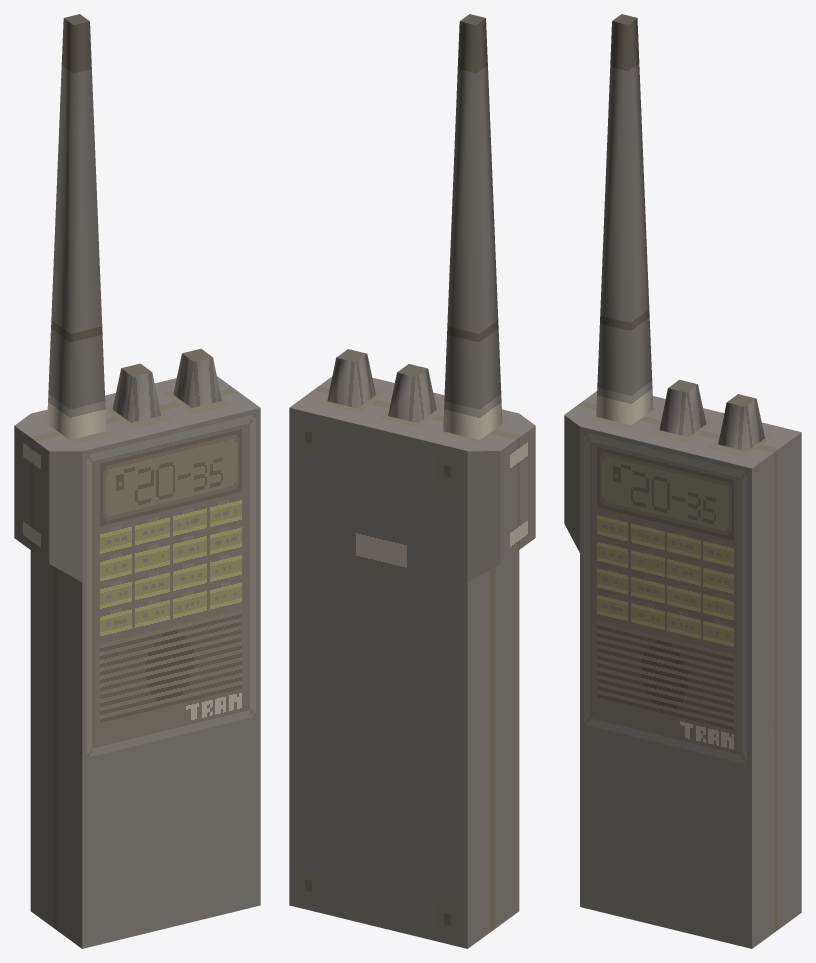
The model's file is 01cc_Walkie-Talkie.glb.
3 renders of one model, left to right at view 1: azimuth 30°, elevation 25°; view 2: azimuth 150°, elevation 25°; view 3: azimuth 330°, elevation 25°, orthographic. The views are drawn at different scales.
Visible parts, largest first — view 1: part_0; view 2: part_0; view 3: part_0.
Part boxes in pixels (left/top/right/bottom): part_0: left=14, top=14, right=260, bottom=948; part_0: left=289, top=14, right=535, bottom=948; part_0: left=564, top=14, right=801, bottom=948.
Size of the model in its own units: 0.0683 by 0.2911 by 0.03.
1 material, 1 textured.
